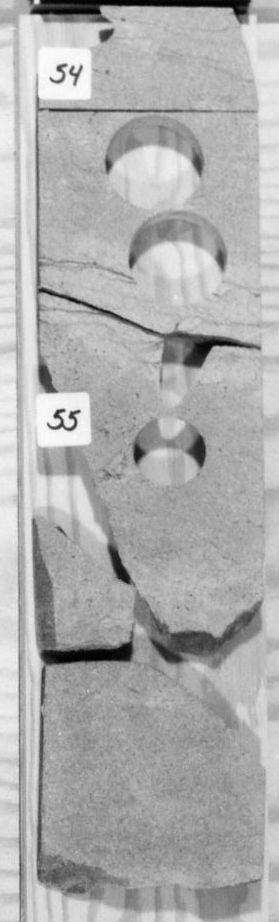hplug: (127, 413, 212, 493), (42, 9, 129, 60)
scal: (99, 113, 213, 213), (126, 213, 231, 310)
vplug: (148, 328, 217, 413)
